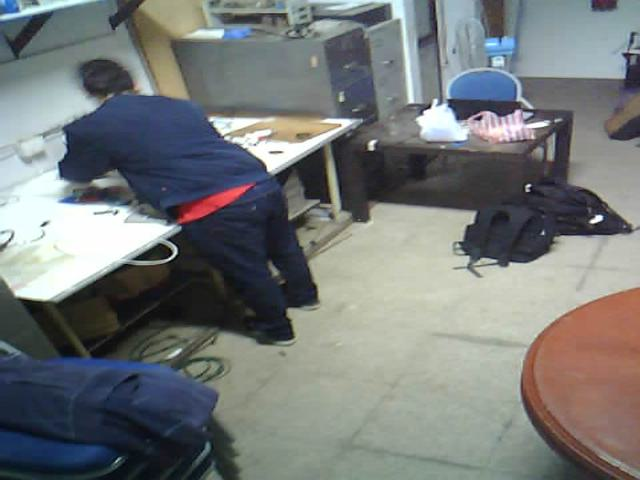person: (47, 36, 335, 359)
